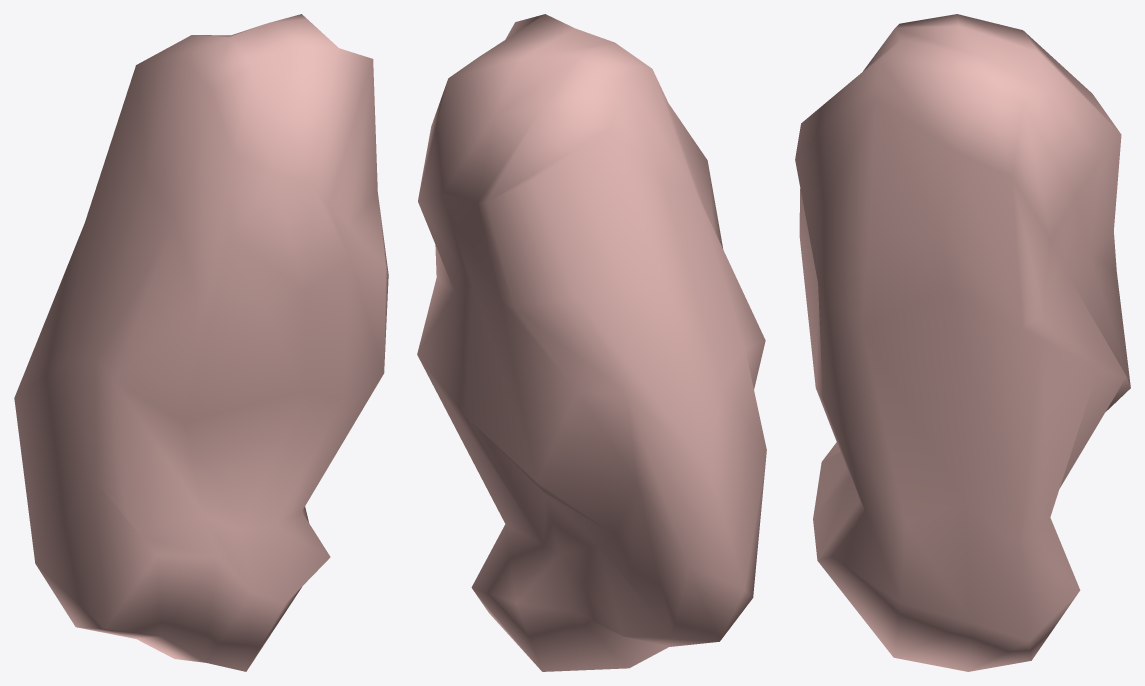
File: Rock2.fbx
3 views of the same model, side by side, from view 1: azimuth 30°, elevation 25°; view 2: azimuth 150°, elevation 25°; view 3: azimuth 270°, elevation 25° (orthographic). The views are drawn at different scales.
Parts seen in each view (by area): view 1: Cube; view 2: Cube; view 3: Cube.
Boxes of the visible parts, x1,y1,x2,y2 form: Cube: (14, 14, 388, 671); Cube: (417, 14, 766, 671); Cube: (795, 14, 1130, 671).
Bounding box in the file's own units: 526 × 1014 × 474.
